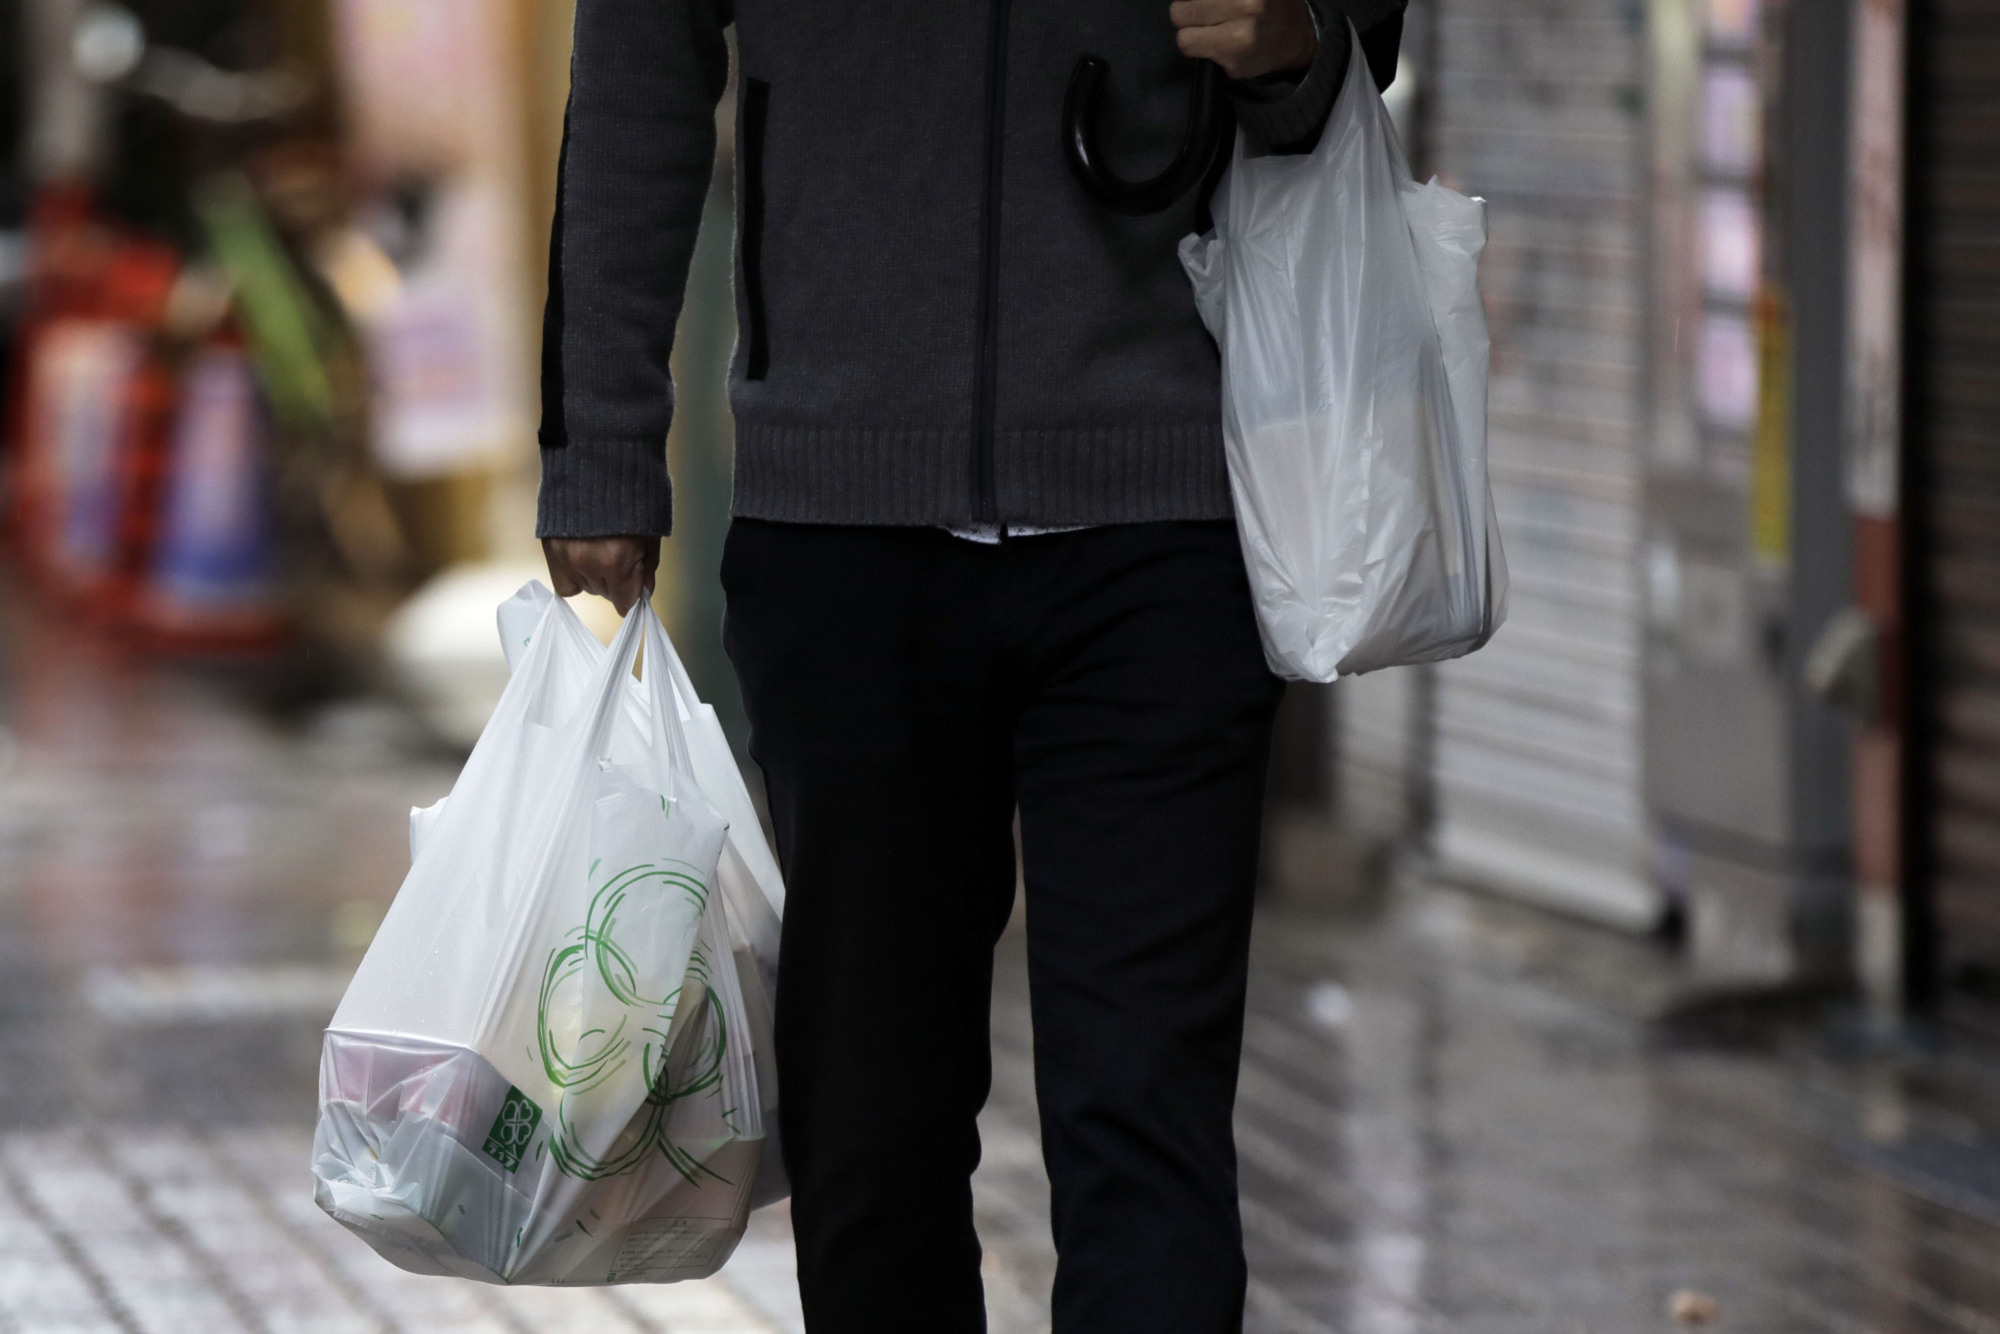plastic_bag: (286, 552, 847, 1294), (1173, 13, 1536, 697)
